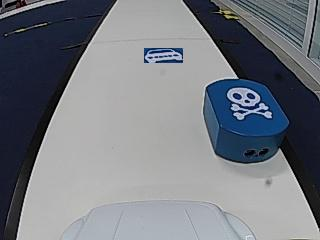danger: (229, 88, 269, 121)
